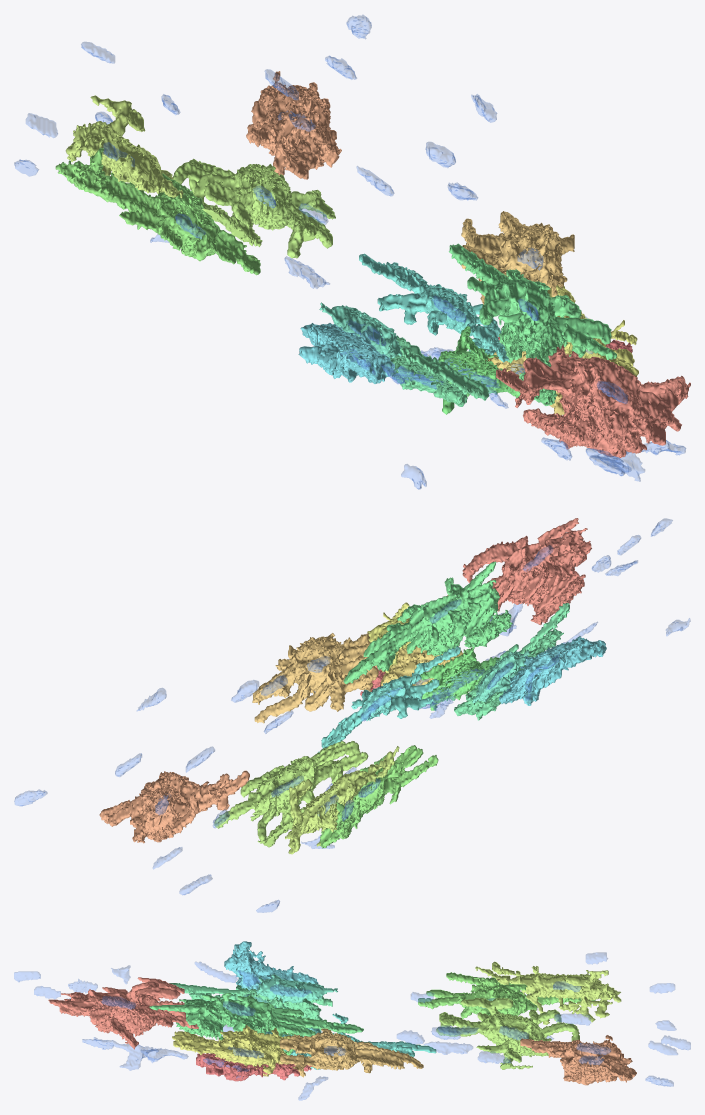
3 renders of one model, top to bottom at view 1: azimuth 30°, elevation 25°; view 2: azimuth 150°, elevation 25°; view 3: azimuth 270°, elevation 25°, orthographic. The views are drawn at different scales.
Visible parts, largest first — view 1: osteocyte_83, osteocyte_84, osteocyte_46, osteocyte_54, osteocyte_47, osteocyte_58, osteocyte_43, osteocyte_68, osteocyte_52, osteocyte_48, osteocyte_24, osteocyte_62 (+2 smaller); view 2: osteocyte_84, osteocyte_83, osteocyte_58, osteocyte_47, osteocyte_46, osteocyte_68, osteocyte_43, osteocyte_54, osteocyte_52, osteocyte_24, osteocyte_48, osteocyte_62 (+2 smaller); view 3: osteocyte_83, osteocyte_84, osteocyte_46, osteocyte_58, osteocyte_68, osteocyte_47, osteocyte_51, osteocyte_54, osteocyte_52, osteocyte_48, osteocyte_3, osteocyte_62 (+17 smaller).
Part boxes in pixels (x1=…): osteocyte_83: x1=496, y1=345, x2=690, y2=457; osteocyte_84: x1=449, y1=243, x2=616, y2=405; osteocyte_46: x1=173, y1=158, x2=335, y2=258; osteocyte_54: x1=55, y1=148, x2=260, y2=275; osteocyte_47: x1=246, y1=71, x2=341, y2=179; osteocyte_58: x1=461, y1=211, x2=574, y2=304; osteocyte_43: x1=359, y1=253, x2=508, y2=362; osteocyte_68: x1=65, y1=95, x2=183, y2=198; osteocyte_52: x1=298, y1=323, x2=392, y2=383; osteocyte_48: x1=390, y1=335, x2=489, y2=406; osteocyte_24: x1=437, y1=326, x2=521, y2=414; osteocyte_62: x1=319, y1=302, x2=401, y2=358; osteocyte_84: x1=343, y1=561, x2=512, y2=684; osteocyte_83: x1=462, y1=518, x2=591, y2=624; osteocyte_58: x1=252, y1=633, x2=378, y2=723; osteocyte_47: x1=99, y1=770, x2=249, y2=843; osteocyte_46: x1=214, y1=741, x2=368, y2=847; osteocyte_68: x1=285, y1=746, x2=399, y2=854; osteocyte_43: x1=318, y1=645, x2=460, y2=752; osteocyte_54: x1=319, y1=745, x2=438, y2=848; osteocyte_52: x1=499, y1=636, x2=606, y2=705; osteocyte_24: x1=420, y1=646, x2=499, y2=710; osteocyte_48: x1=454, y1=602, x2=569, y2=720; osteocyte_62: x1=472, y1=650, x2=529, y2=703; osteocyte_83: x1=48, y1=977, x2=198, y2=1049; osteocyte_84: x1=149, y1=993, x2=363, y2=1039; osteocyte_46: x1=436, y1=998, x2=579, y2=1069; osteocyte_58: x1=280, y1=1028, x2=423, y2=1077; osteocyte_68: x1=475, y1=961, x2=621, y2=1024; osteocyte_47: x1=520, y1=1035, x2=636, y2=1085; osteocyte_51: x1=172, y1=1025, x2=290, y2=1073; osteocyte_54: x1=418, y1=972, x2=595, y2=1019; osteocyte_52: x1=224, y1=941, x2=318, y2=990; osteocyte_48: x1=169, y1=983, x2=332, y2=1020; osteocyte_3: x1=196, y1=1053, x2=311, y2=1081; osteocyte_62: x1=256, y1=974, x2=337, y2=1003.
Size of the model in its own units: 97.74 by 23.11 by 229.
